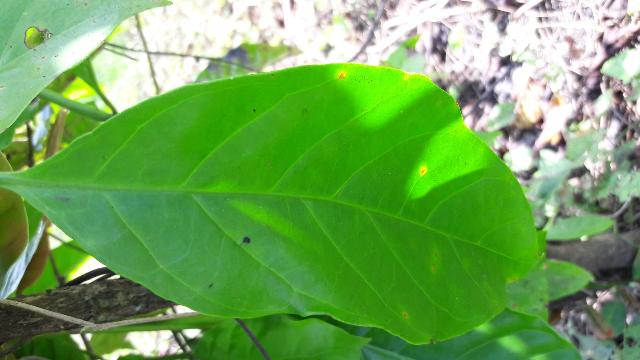healthy: (19, 65, 535, 343)
